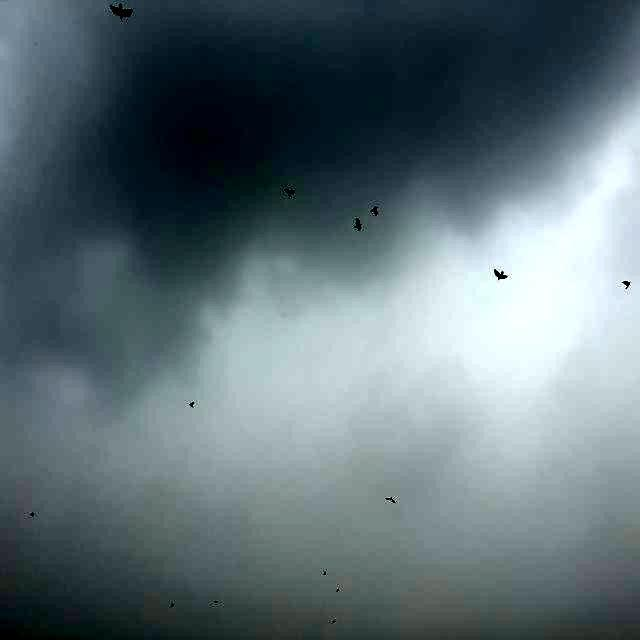bird: (102, 2, 138, 24), (278, 178, 301, 210), (179, 392, 205, 417), (490, 259, 510, 287), (348, 210, 364, 240), (620, 274, 635, 305), (383, 492, 402, 511), (369, 198, 382, 221)
